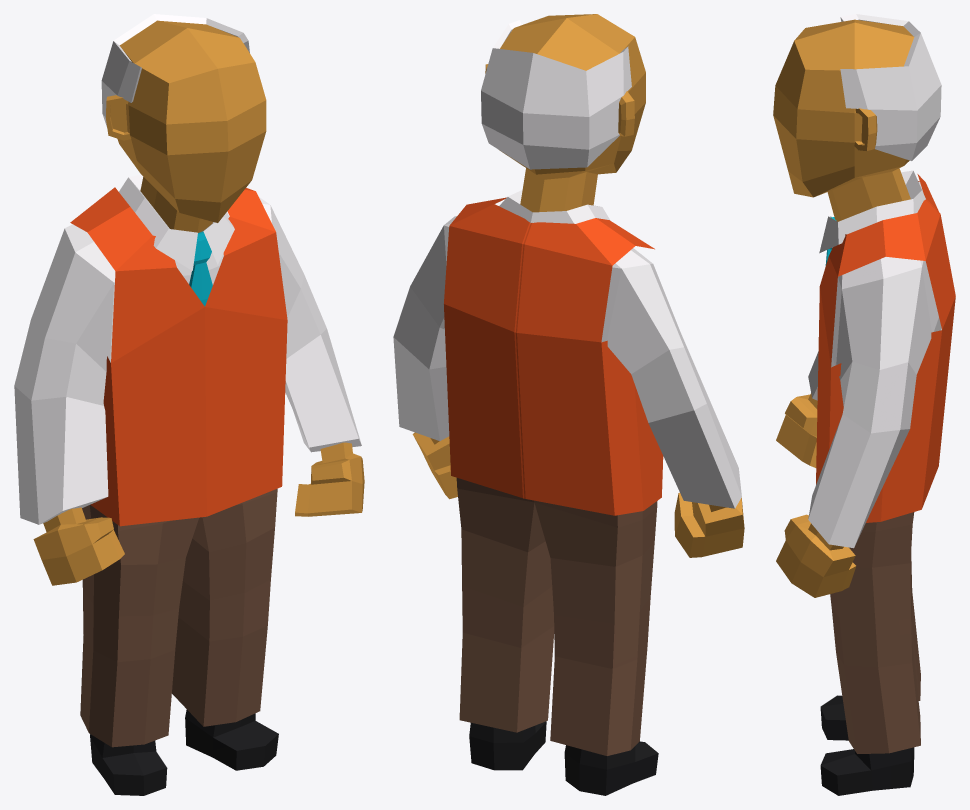
File: 5v5j_lqOHTO.glb
The picture shows the model from 3 angles, left to right: view 1: azimuth 30°, elevation 25°; view 2: azimuth 150°, elevation 25°; view 3: azimuth 270°, elevation 25°; orthographic projection.
Parts seen in each view (by area): view 1: Teacher_Cube.008_Cube.003; view 2: Teacher_Cube.008_Cube.003; view 3: Teacher_Cube.008_Cube.003.
Boxes of the visible parts, <box> form: Teacher_Cube.008_Cube.003: <box>14,14,364,795</box>; Teacher_Cube.008_Cube.003: <box>393,14,744,795</box>; Teacher_Cube.008_Cube.003: <box>773,14,955,795</box>.
Bounding box in the file's own units: 6.12 × 12.96 × 2.92.
1 material, 1 textured.
